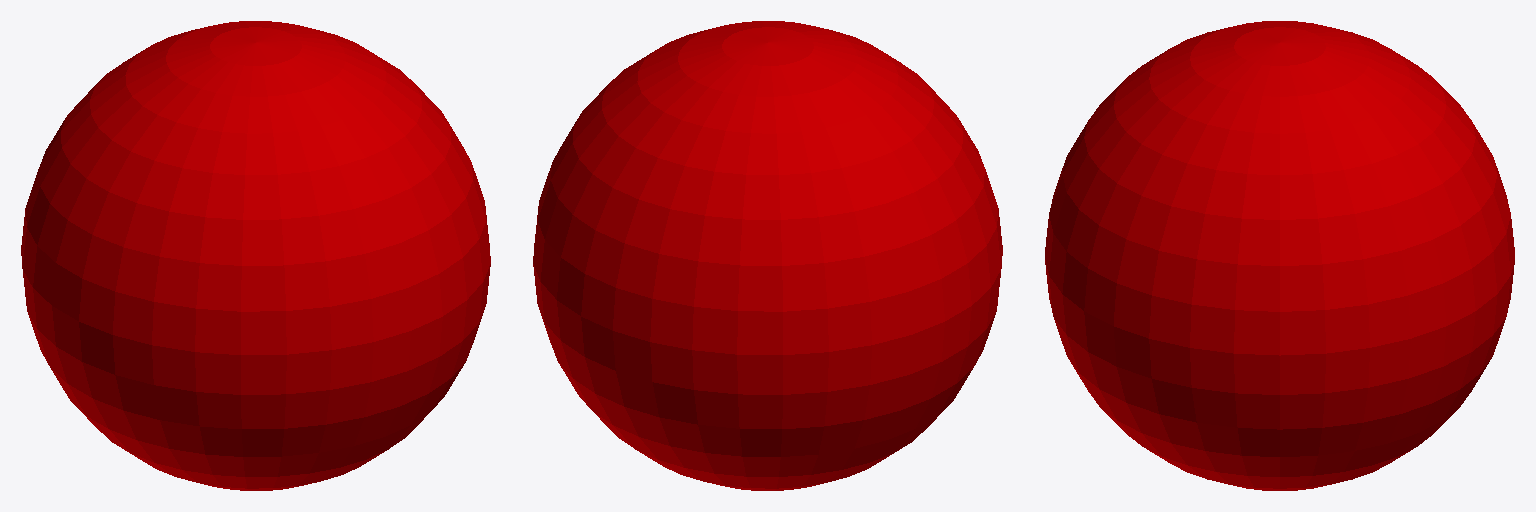
Rendered from enemyBullet.obj.
The picture shows the model from 3 angles: view 1: azimuth 30°, elevation 25°; view 2: azimuth 150°, elevation 25°; view 3: azimuth 270°, elevation 25°; orthographic projection.
Visible parts, largest first — view 1: 球; view 2: 球; view 3: 球.
Part boxes in pixels (x1,y1,x2,y2): 球: (21,21,490,490); 球: (533,21,1002,490); 球: (1045,21,1514,490).
Bounding box in the file's own units: 2 × 2 × 2.